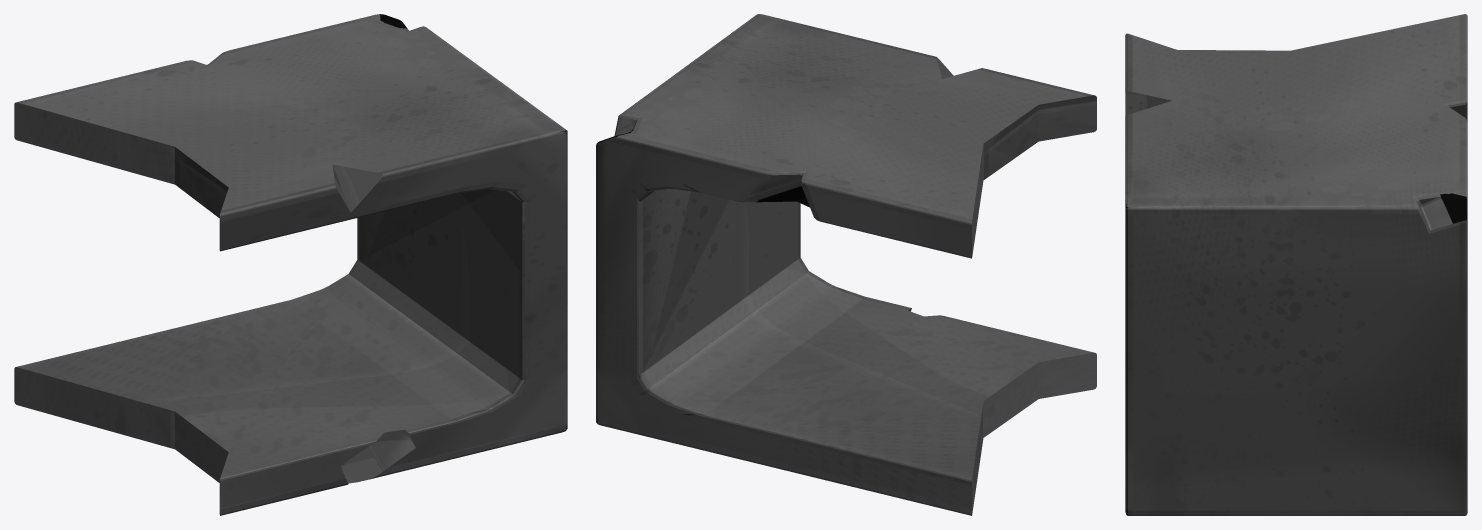
The model's file is Brick-2-Half-1.fbx.
The picture shows the model from 3 angles, left to right: view 1: azimuth 30°, elevation 25°; view 2: azimuth 150°, elevation 25°; view 3: azimuth 270°, elevation 25°; orthographic projection. The views are drawn at different scales.
Visible parts, largest first — view 1: Brick-1.002; view 2: Brick-1.002; view 3: Brick-1.002.
Boxes of the visible parts, left/top/right/bottom form: Brick-1.002: left=14, top=14, right=567, bottom=515; Brick-1.002: left=596, top=14, right=1096, bottom=515; Brick-1.002: left=1125, top=14, right=1467, bottom=515.
Size of the model in its own units: 8893 by 6635 by 6635.
